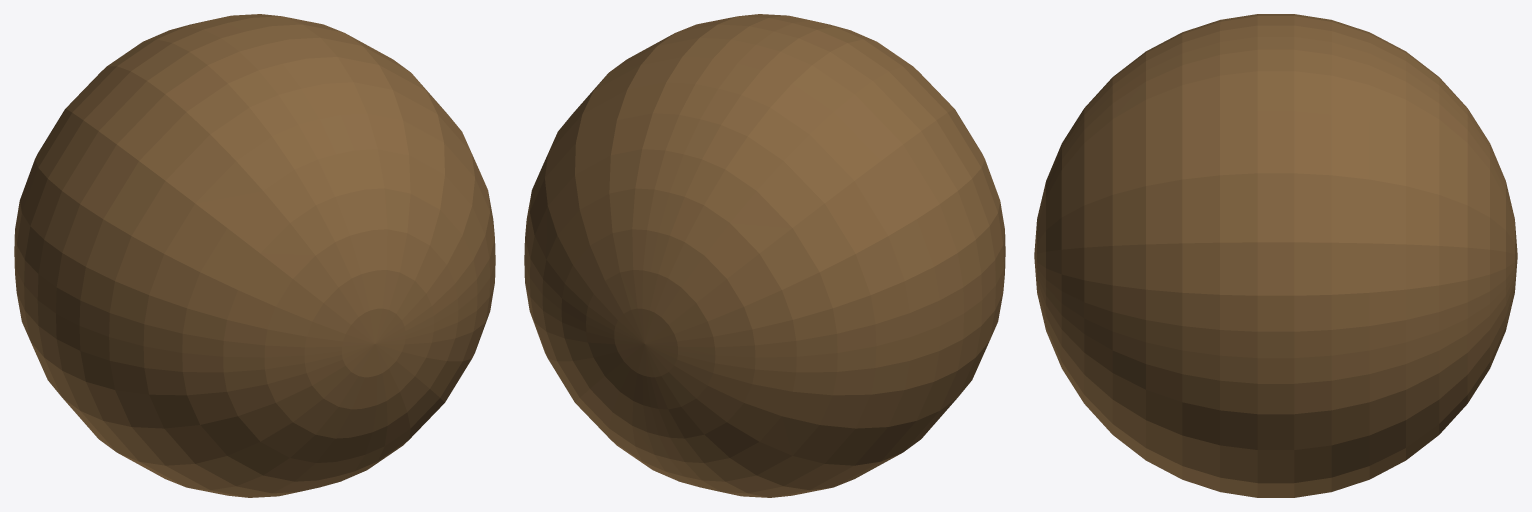
The model's file is LeftFingerJoint50y_joint_visu.dae.
The picture shows the model from 3 angles, left to right: view 1: azimuth 30°, elevation 25°; view 2: azimuth 150°, elevation 25°; view 3: azimuth 270°, elevation 25°; orthographic projection.
Parts seen in each view (by area): view 1: node; view 2: node; view 3: node.
Part boxes in pixels (box(x1,y1,x2,y2)): node: box(14, 14, 495, 497); node: box(524, 14, 1005, 497); node: box(1034, 14, 1517, 497).
Size of the model in its own units: 0.00808 by 0.00808 by 0.00808.
